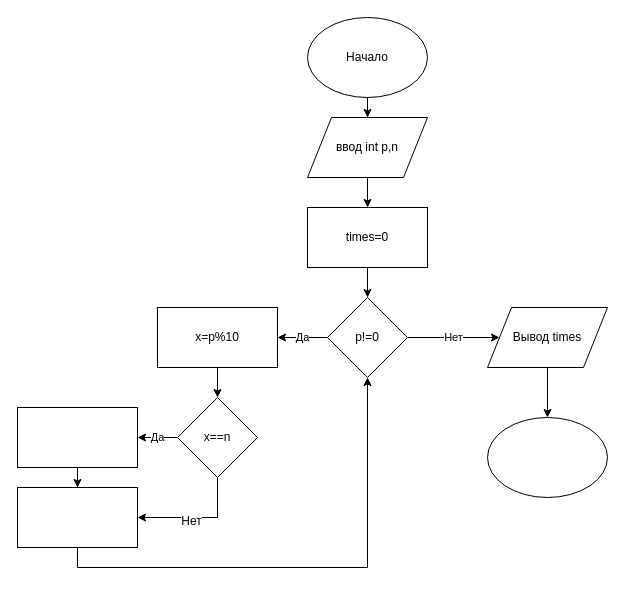
This 625x593 diagram has some shape labels left out. The centre of each missing label's shape, as x and y in pixels:
"p=p//10" belongs at pixel 77 517.
"The happiest ever end" belongs at pixel 547 457.
"times+=1" belongs at pixel 77 437.
